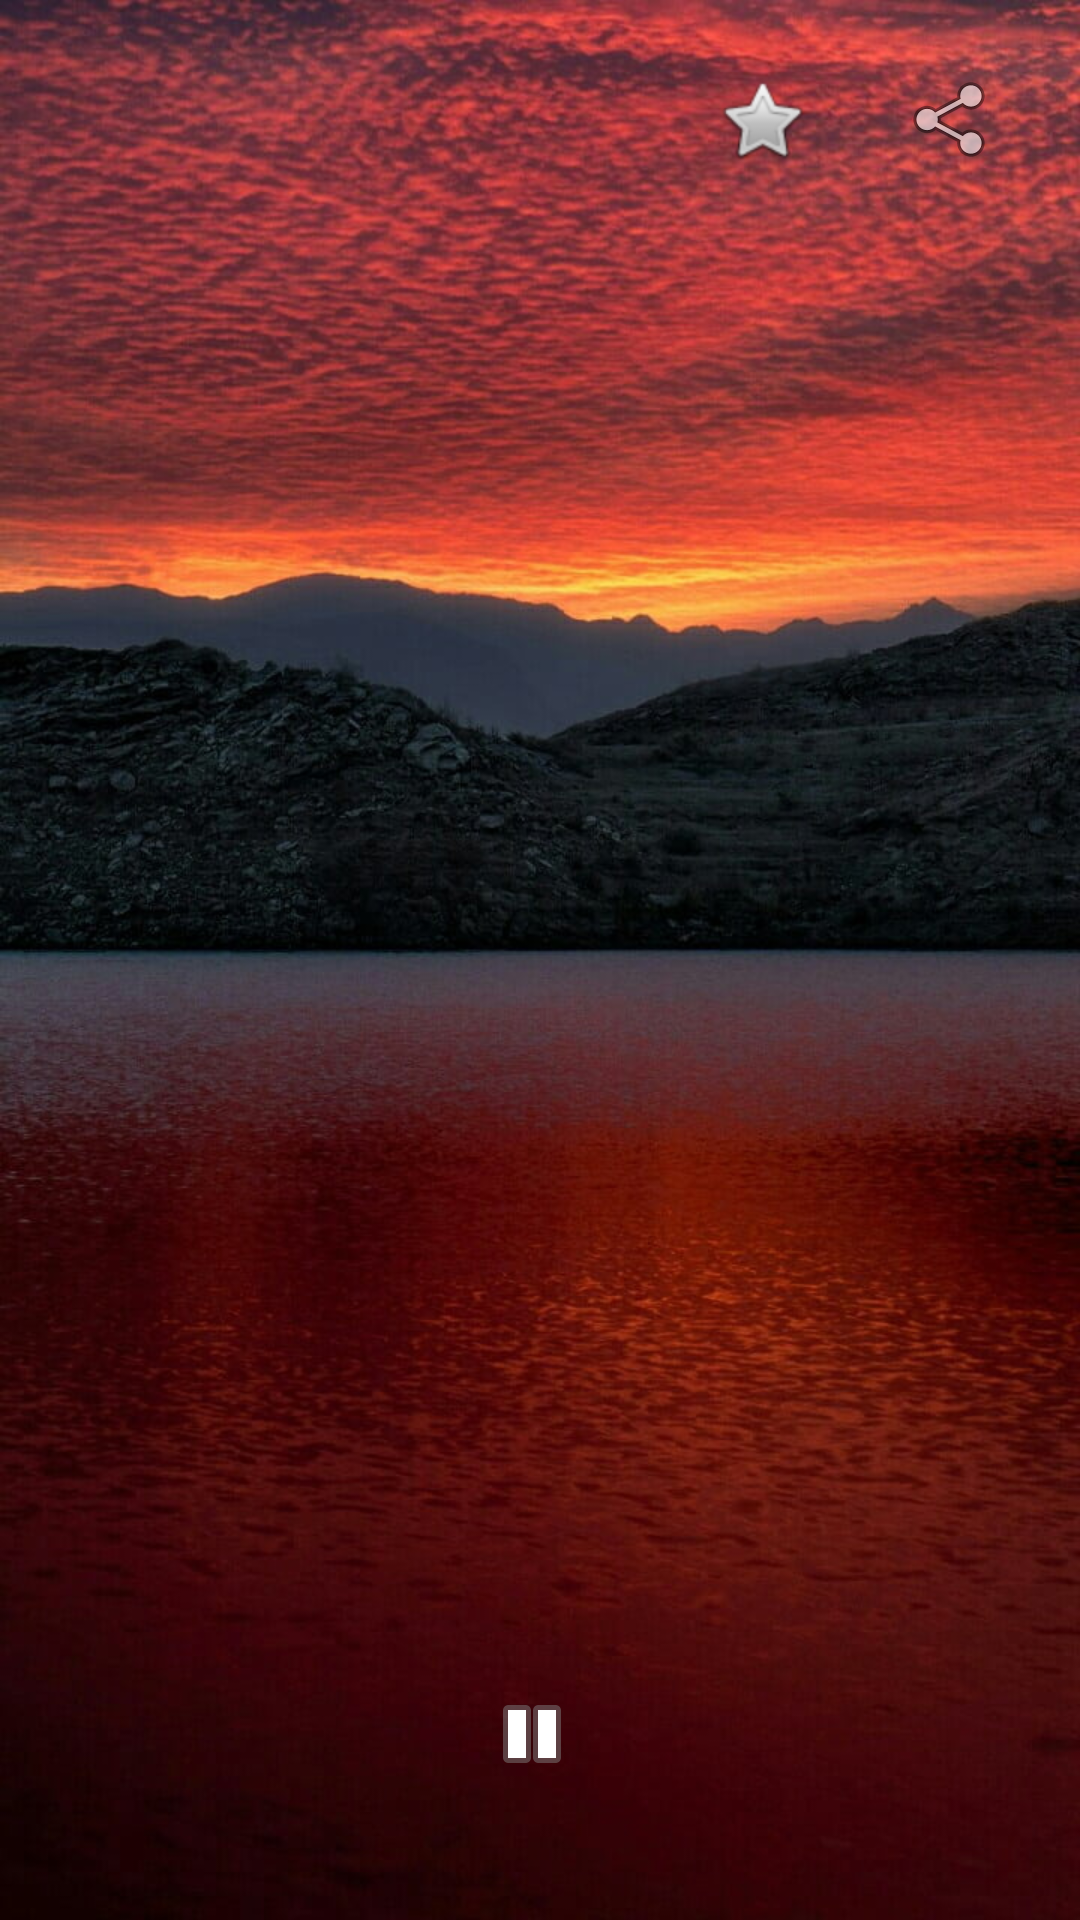

Screen size 1080px×1920px. Icon name, then its center in pixels as (x,y):
star: (768,120)
